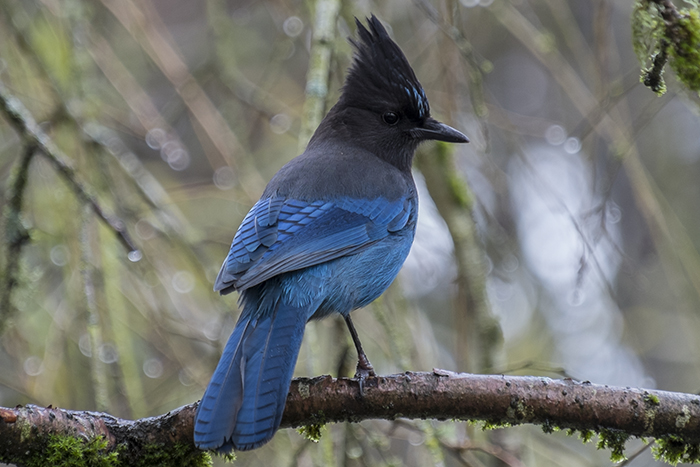bird: (174, 7, 468, 467)
